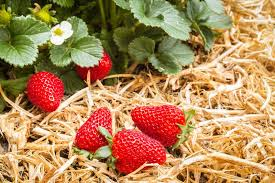ripe: (106, 125, 170, 176), (128, 103, 193, 149), (21, 67, 68, 118), (72, 36, 114, 85), (74, 105, 117, 152)
